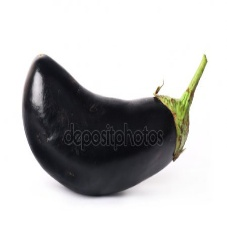eggplant: (22, 51, 191, 197)
